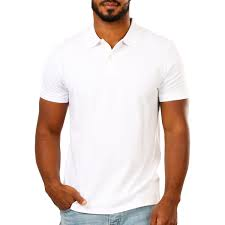S_polo shirt: (25, 18, 197, 209)
